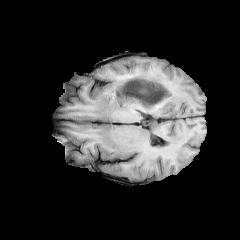glioma: (102, 75, 171, 157)
